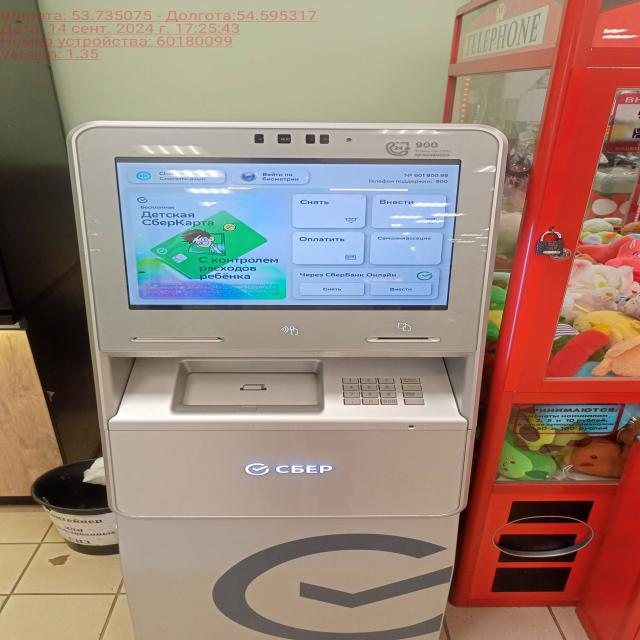bank: (68, 121, 505, 640)
